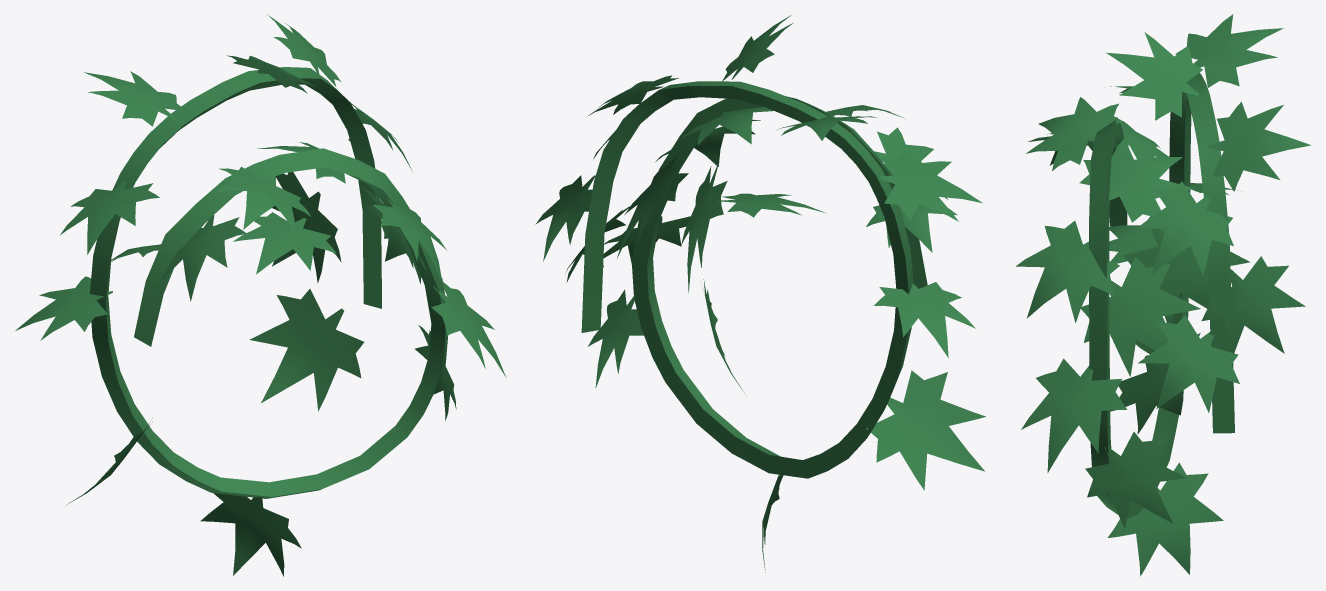
The model's file is vine_X_alangium_loop_big_angle.fbx.
3 renders of one model, left to right at view 1: azimuth 30°, elevation 25°; view 2: azimuth 150°, elevation 25°; view 3: azimuth 270°, elevation 25°, orthographic.
Visible parts, largest first — view 1: vine_X_scanden_loop_big_angle_root, vine_alangium_A_leaf_B45, vine_alangium_A_leaf_B42, vine_alangium_A_leaf_B47, vine_alangium_A_leaf_B29, vine_alangium_A_leaf_B33, vine_alangium_A_leaf_B30, vine_alangium_A_leaf_B49, vine_alangium_A_leaf_B34, vine_alangium_A_leaf_B43, vine_alangium_A_leaf_B39, vine_alangium_A_leaf_B38 (+4 smaller); view 2: vine_X_scanden_loop_big_angle_root, vine_alangium_A_leaf_B31, vine_alangium_A_leaf_B29, vine_alangium_A_leaf_B30, vine_alangium_A_leaf_B41, vine_alangium_A_leaf_B39, vine_alangium_A_leaf_B46, vine_alangium_A_leaf_B32, vine_alangium_A_leaf_B35, vine_alangium_A_leaf_B47, vine_alangium_A_leaf_B44, vine_alangium_A_leaf_B43 (+5 smaller); view 3: vine_X_scanden_loop_big_angle_root, vine_alangium_A_leaf_B32, vine_alangium_A_leaf_B43, vine_alangium_A_leaf_B42, vine_alangium_A_leaf_B46, vine_alangium_A_leaf_B38, vine_alangium_A_leaf_B40, vine_alangium_A_leaf_B41, vine_alangium_A_leaf_B48, vine_alangium_A_leaf_B37, vine_alangium_A_leaf_B35, vine_alangium_A_leaf_B44 (+6 smaller).
Part boxes in pixels (x1,y1,x2,y2): vine_X_scanden_loop_big_angle_root: [90, 67, 448, 498]; vine_alangium_A_leaf_B45: [249, 289, 364, 411]; vine_alangium_A_leaf_B42: [200, 493, 301, 576]; vine_alangium_A_leaf_B47: [233, 212, 336, 274]; vine_alangium_A_leaf_B29: [60, 181, 159, 254]; vine_alangium_A_leaf_B33: [162, 215, 246, 301]; vine_alangium_A_leaf_B30: [15, 276, 112, 340]; vine_alangium_A_leaf_B49: [216, 166, 310, 230]; vine_alangium_A_leaf_B34: [84, 71, 180, 126]; vine_alangium_A_leaf_B43: [431, 282, 506, 377]; vine_alangium_A_leaf_B39: [272, 172, 341, 283]; vine_alangium_A_leaf_B38: [372, 199, 446, 285]; vine_X_scanden_loop_big_angle_root: [581, 81, 927, 478]; vine_alangium_A_leaf_B31: [866, 370, 985, 490]; vine_alangium_A_leaf_B29: [880, 150, 982, 221]; vine_alangium_A_leaf_B30: [874, 282, 975, 357]; vine_alangium_A_leaf_B41: [588, 289, 643, 387]; vine_alangium_A_leaf_B39: [681, 165, 727, 292]; vine_alangium_A_leaf_B46: [535, 175, 595, 261]; vine_alangium_A_leaf_B32: [617, 155, 688, 258]; vine_alangium_A_leaf_B35: [722, 15, 793, 81]; vine_alangium_A_leaf_B47: [718, 193, 826, 217]; vine_alangium_A_leaf_B44: [678, 107, 773, 144]; vine_alangium_A_leaf_B43: [603, 216, 690, 264]; vine_X_scanden_loop_big_angle_root: [1089, 72, 1234, 518]; vine_alangium_A_leaf_B32: [1081, 257, 1200, 376]; vine_alangium_A_leaf_B43: [1021, 358, 1126, 472]; vine_alangium_A_leaf_B42: [1108, 462, 1223, 576]; vine_alangium_A_leaf_B46: [1201, 256, 1305, 354]; vine_alangium_A_leaf_B38: [1016, 220, 1119, 322]; vine_alangium_A_leaf_B40: [1138, 315, 1239, 412]; vine_alangium_A_leaf_B41: [1085, 432, 1186, 527]; vine_alangium_A_leaf_B48: [1135, 181, 1233, 275]; vine_alangium_A_leaf_B37: [1207, 102, 1310, 191]; vine_alangium_A_leaf_B35: [1106, 32, 1202, 120]; vine_alangium_A_leaf_B44: [1079, 138, 1194, 222].
Size of the model in its own units: 78.49 by 96.62 by 48.07.
